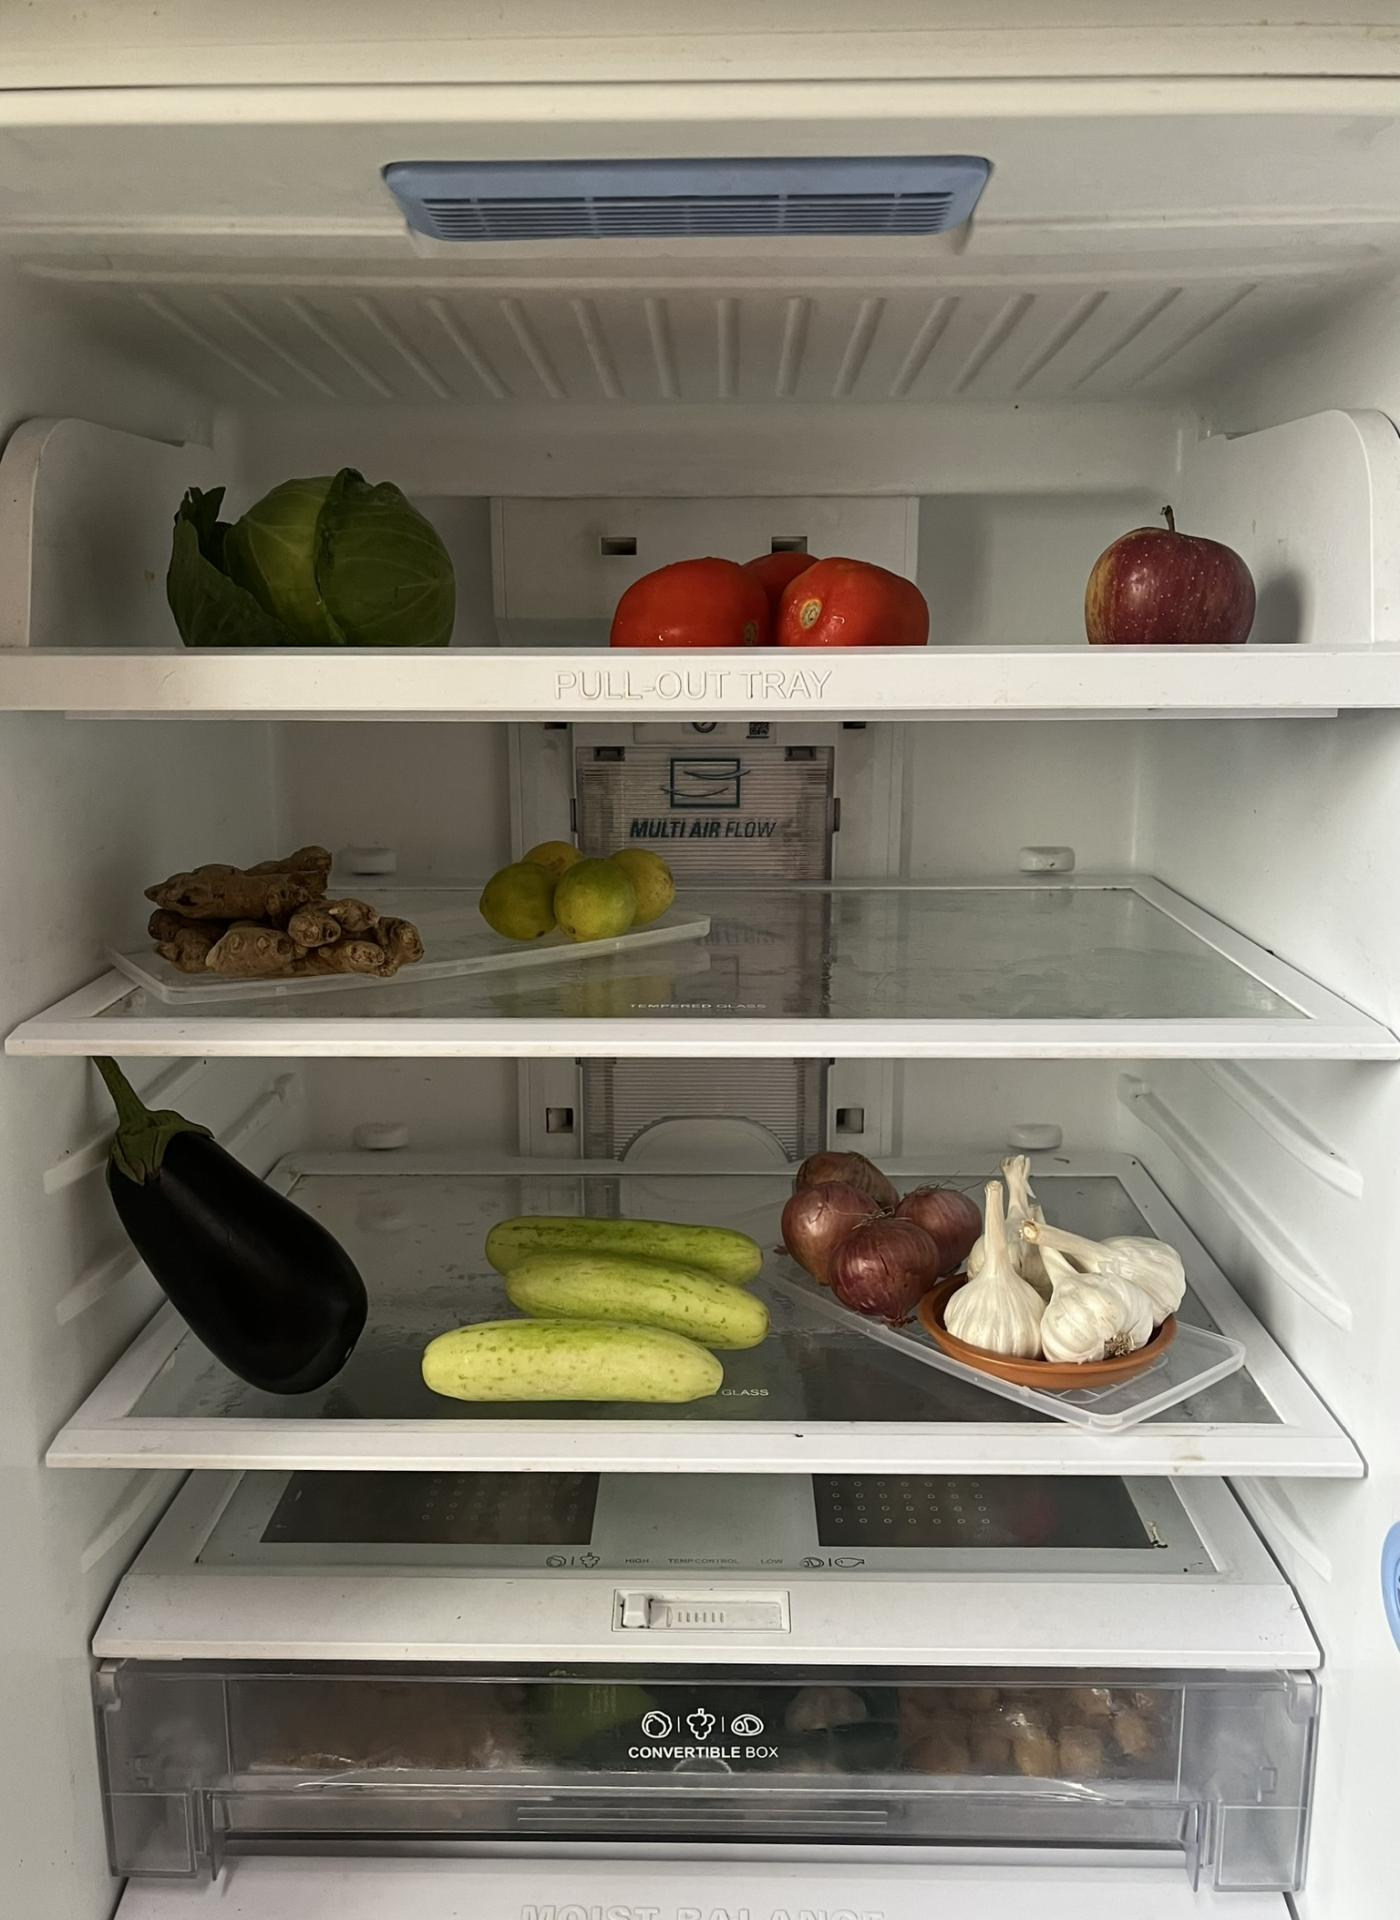apple: (1087, 498, 1255, 637)
cabbage: (165, 465, 453, 642)
cucumber: (425, 1201, 778, 1409)
garlic: (950, 1154, 1188, 1355)
ginger: (161, 841, 406, 975)
lemon: (485, 827, 681, 947)
onion: (786, 1145, 981, 1328)
tomato: (613, 541, 936, 640)
